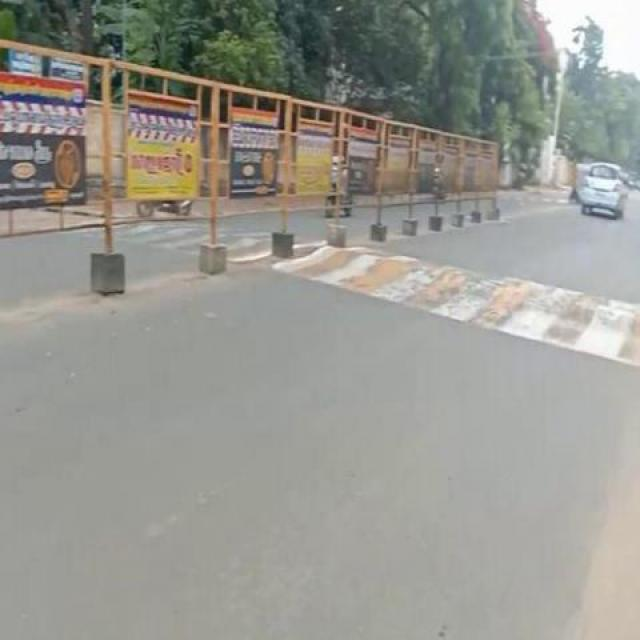Speed Bump: (293, 242, 639, 370), (113, 220, 200, 253), (226, 229, 272, 263)
